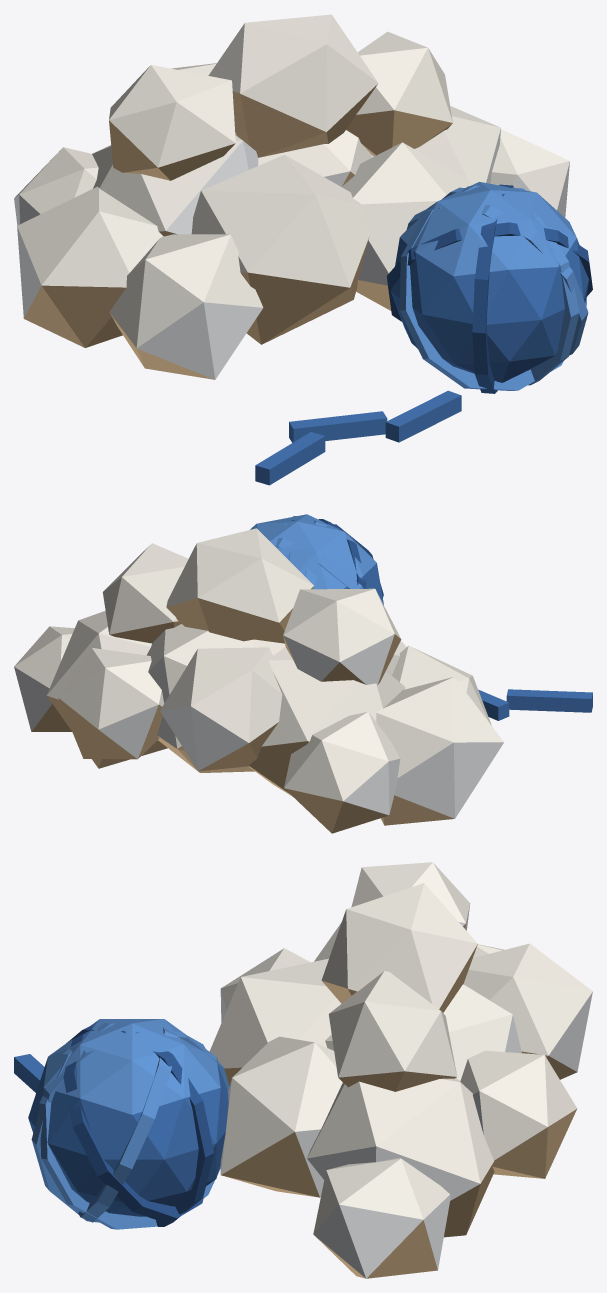
File: Res_Wool.fbx
3 views of the same model, one above another, from view 1: azimuth 30°, elevation 25°; view 2: azimuth 150°, elevation 25°; view 3: azimuth 270°, elevation 25° (orthographic). The views are drawn at different scales.
Visible parts, largest first — view 1: Res_Wool; view 2: Res_Wool; view 3: Res_Wool.
Part boxes in pixels (x1,y1,x2,y2): Res_Wool: (14,14,592,485); Res_Wool: (14,514,592,833); Res_Wool: (14,862,592,1278).
Bounding box in the file's own units: 0.6322 × 0.3095 × 0.5843.
